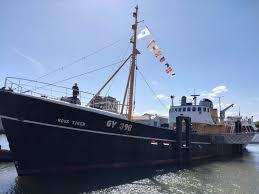Ship: (1, 6, 259, 176)
